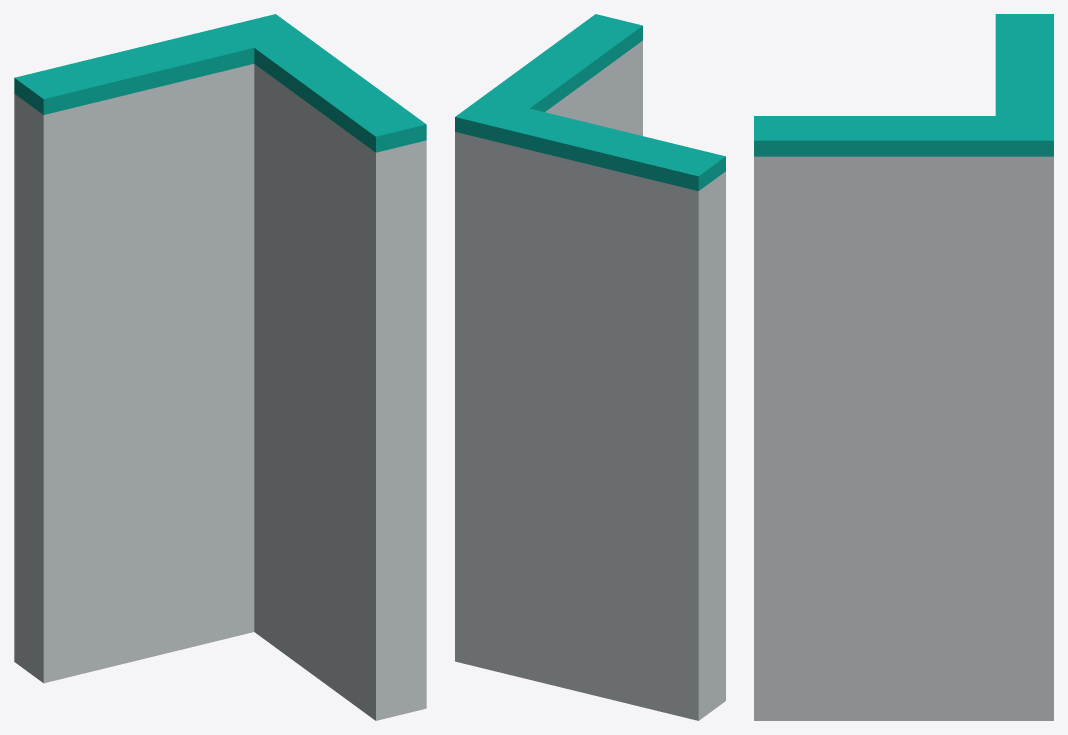
The model's file is raum_wand_ecke.glb.
3 renders of one model, left to right at view 1: azimuth 30°, elevation 25°; view 2: azimuth 150°, elevation 25°; view 3: azimuth 270°, elevation 25°, orthographic. The views are drawn at different scales.
Parts seen in each view (by area): view 1: raum_wand_ecke; view 2: raum_wand_ecke; view 3: raum_wand_ecke.
Boxes of the visible parts, bbox=[...] form: raum_wand_ecke: bbox=[14, 14, 426, 720]; raum_wand_ecke: bbox=[455, 14, 725, 720]; raum_wand_ecke: bbox=[754, 14, 1053, 720].
Size of the model in its own units: 1.03 by 2.2 by 1.03.
